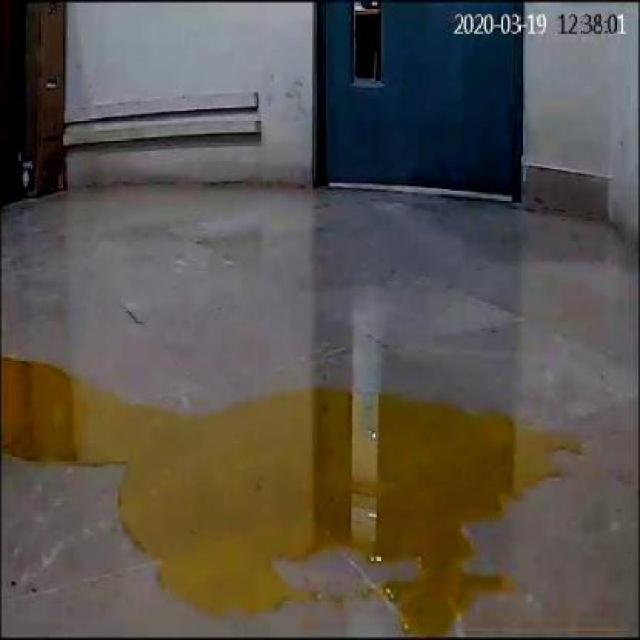spill: (6, 352, 576, 634)
